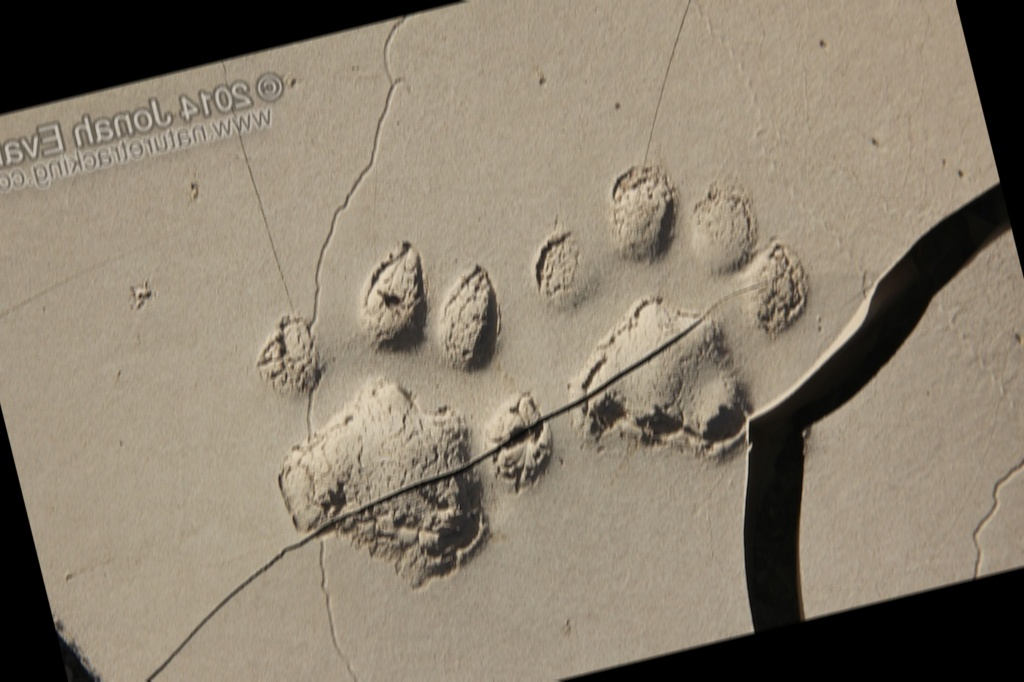lynx: (198, 123, 872, 646)
